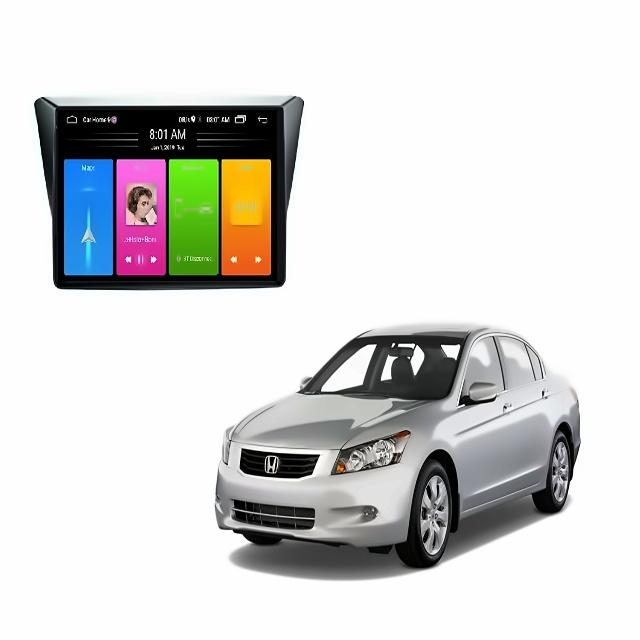Car hood: (224, 386, 429, 453)
Fender - -F-L-: (403, 392, 464, 525)
Fender - -R-L-: (547, 388, 579, 489)
Front bumper: (209, 470, 419, 554)
Headlight - -L-: (330, 426, 415, 477)
Headlight - -R-: (215, 431, 239, 470)
Passenger-s door - -F-L-: (464, 327, 514, 511)
Passenger-s door - -R-L-: (508, 330, 551, 492)
Rear bumper: (568, 425, 592, 474)
Side bumper - -L-: (454, 477, 550, 525)
Side mirror - -L-: (465, 379, 503, 408)
Side mirror - -R-: (292, 367, 318, 394)
